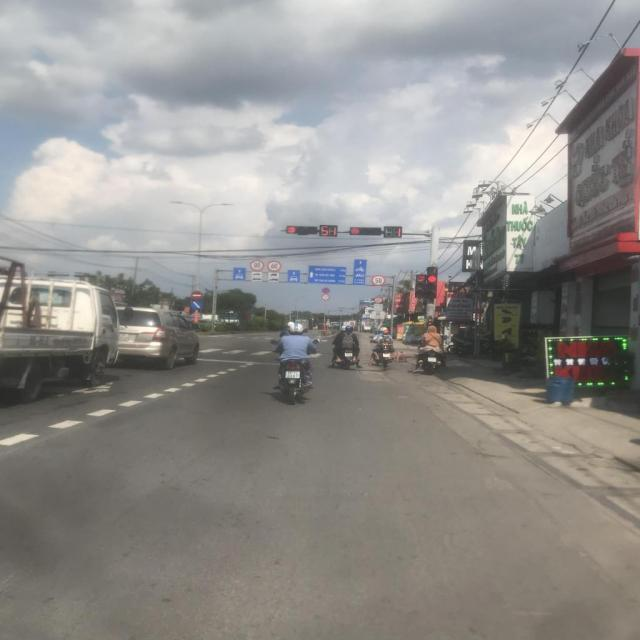cam_o_to_tai_va_xe_khach: (374, 297, 384, 303)
cam_xe_di_nguoc_chieu: (192, 291, 202, 300)
duong_cho_xe_o_to: (232, 268, 245, 280), (288, 270, 300, 283)
huong_phai_di_vuot_chuong_ngai_vat_phai: (191, 300, 202, 309)
khac: (307, 266, 347, 284), (352, 260, 367, 286), (372, 311, 385, 319), (268, 272, 280, 278), (251, 276, 262, 282), (374, 304, 383, 311), (251, 272, 262, 276), (268, 278, 278, 282)
object: (321, 288, 330, 294), (321, 294, 330, 300)
toc_do_toi_da_50: (372, 274, 386, 286)
toc_do_toi_da_60: (267, 261, 282, 272)
toc_do_toi_da_80: (250, 260, 265, 271)
